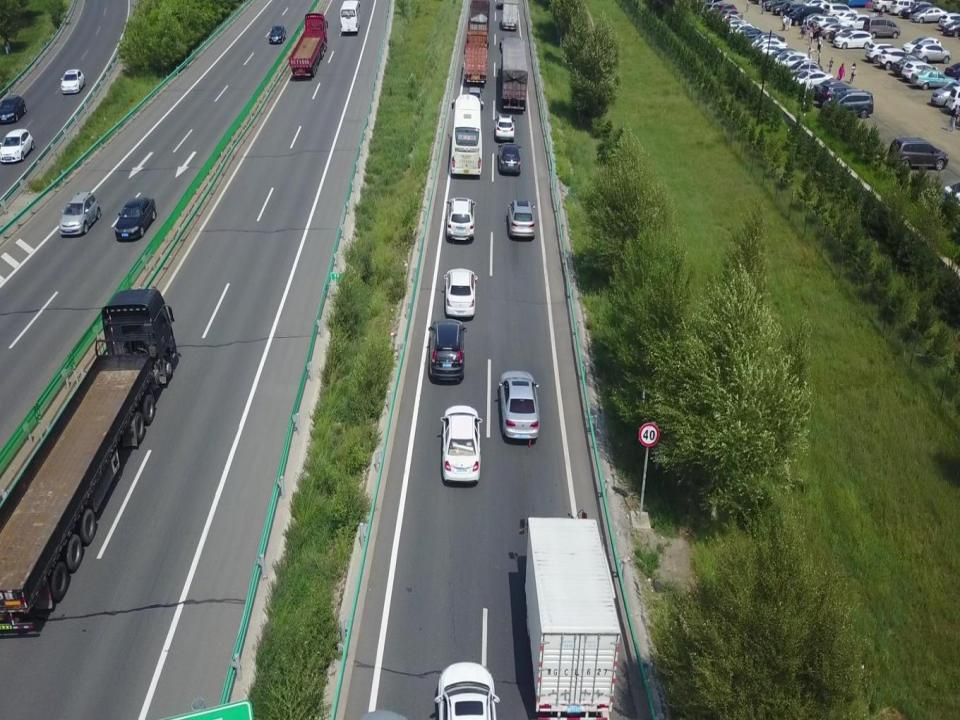bus: (451, 95, 484, 177)
car: (434, 660, 499, 720), (440, 402, 481, 487), (498, 370, 540, 442), (426, 318, 466, 383), (888, 136, 949, 172), (58, 192, 100, 237), (114, 197, 155, 242), (444, 266, 477, 319), (821, 91, 875, 118), (446, 197, 477, 242), (814, 79, 867, 103), (818, 85, 871, 107), (0, 129, 33, 164), (508, 198, 535, 239), (877, 47, 925, 70), (910, 67, 960, 89), (790, 68, 834, 88), (866, 42, 906, 64), (912, 43, 952, 64), (902, 60, 939, 82), (785, 59, 823, 80), (498, 141, 521, 175), (774, 52, 811, 72), (0, 96, 26, 124), (932, 80, 960, 106), (765, 48, 805, 66), (891, 58, 931, 76), (902, 36, 942, 54), (789, 5, 825, 24), (830, 26, 867, 44), (819, 22, 855, 40), (806, 12, 842, 30), (740, 28, 785, 42), (62, 69, 86, 95), (834, 31, 873, 47), (752, 43, 788, 60), (911, 7, 948, 22), (494, 113, 516, 138), (753, 38, 787, 54), (824, 4, 858, 20), (774, 3, 812, 17), (901, 2, 934, 17), (750, 33, 785, 47), (814, 17, 848, 31), (710, 4, 738, 20), (726, 19, 756, 33), (720, 14, 749, 28), (844, 15, 873, 29), (728, 23, 759, 35), (269, 26, 287, 46), (833, 12, 860, 25), (762, 0, 793, 11), (870, 0, 901, 11), (716, 10, 744, 22), (799, 0, 829, 11), (938, 13, 960, 28), (942, 18, 960, 36)
truck: (0, 288, 177, 638), (518, 515, 621, 720), (290, 13, 328, 78), (499, 37, 529, 115), (464, 30, 488, 85)
van: (862, 17, 901, 39), (340, 0, 360, 35), (889, 0, 919, 15)
